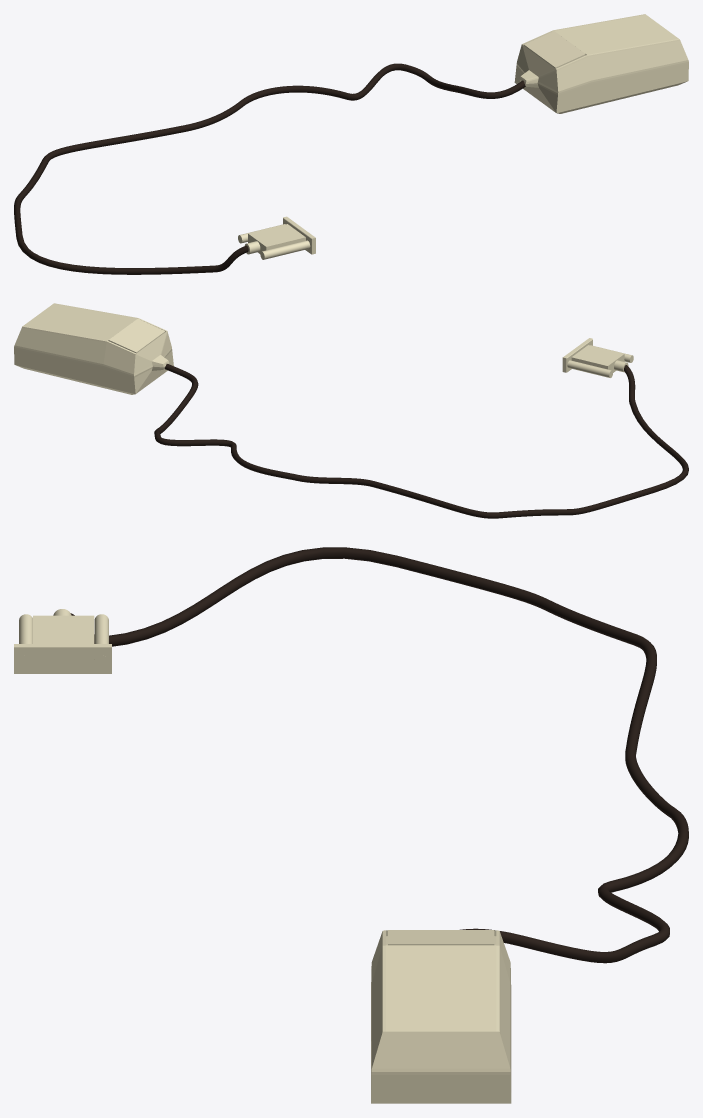
The model's file is AppleComputerMouse.gltf.
3 views of the same model, one above another, from view 1: azimuth 30°, elevation 25°; view 2: azimuth 150°, elevation 25°; view 3: azimuth 270°, elevation 25° (orthographic). The views are drawn at different scales.
Visible parts, largest first — view 1: CordCylinder.001; view 2: CordCylinder.001; view 3: CordCylinder.001.
Boxes of the visible parts, box(x1,y1,x2,y2) form: CordCylinder.001: box(14, 14, 688, 274); CordCylinder.001: box(14, 303, 688, 518); CordCylinder.001: box(14, 547, 688, 1103).
Bounding box in the file's own units: 6.83 × 0.5321 × 3.52.
